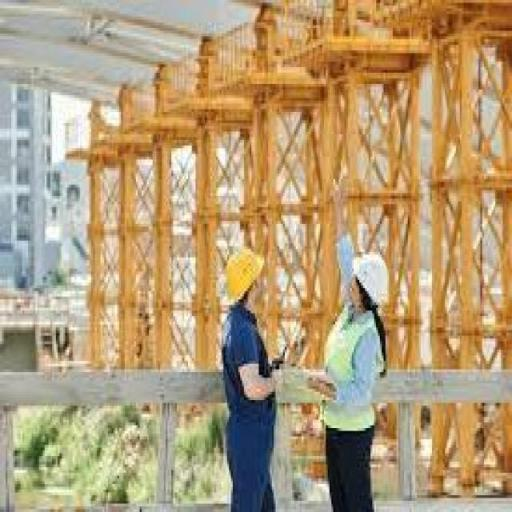helmet: (212, 241, 272, 316), (346, 246, 397, 316)
vest: (321, 316, 385, 430)
